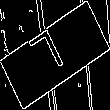L_SE: (33, 25, 77, 85)
